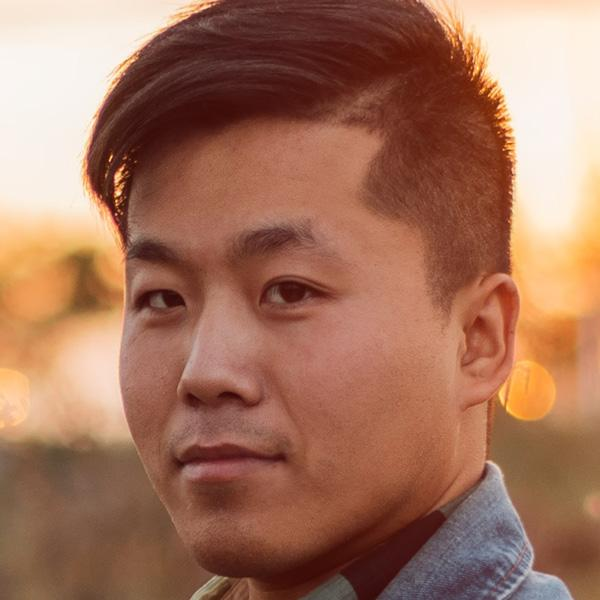Eyes: (250, 263, 344, 321), (127, 269, 196, 322)
